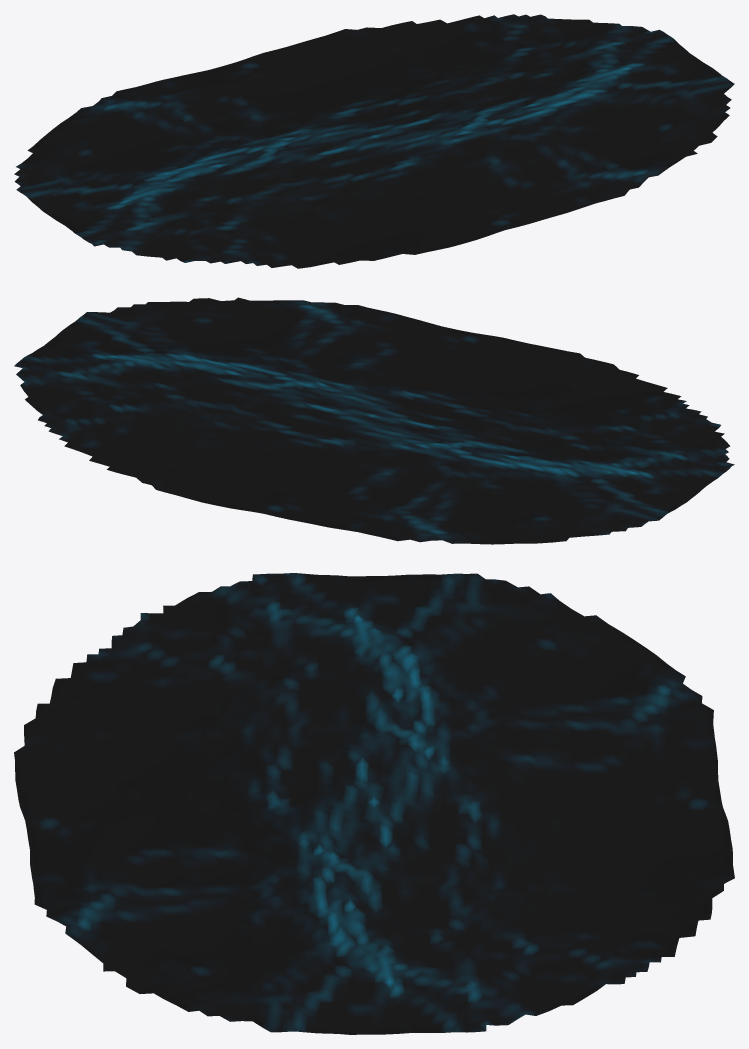
The model's file is wave.dae.
The picture shows the model from 3 angles, top to bottom: view 1: azimuth 30°, elevation 25°; view 2: azimuth 150°, elevation 25°; view 3: azimuth 270°, elevation 25°; orthographic projection. The views are drawn at different scales.
Visible parts, largest first — view 1: Plane; view 2: Plane; view 3: Plane.
Part boxes in pixels (bbox=[...]): Plane: bbox=[14, 14, 734, 268]; Plane: bbox=[14, 297, 734, 544]; Plane: bbox=[14, 573, 734, 1034].
Bounding box in the file's own units: 92 × 61 × 1.7.
